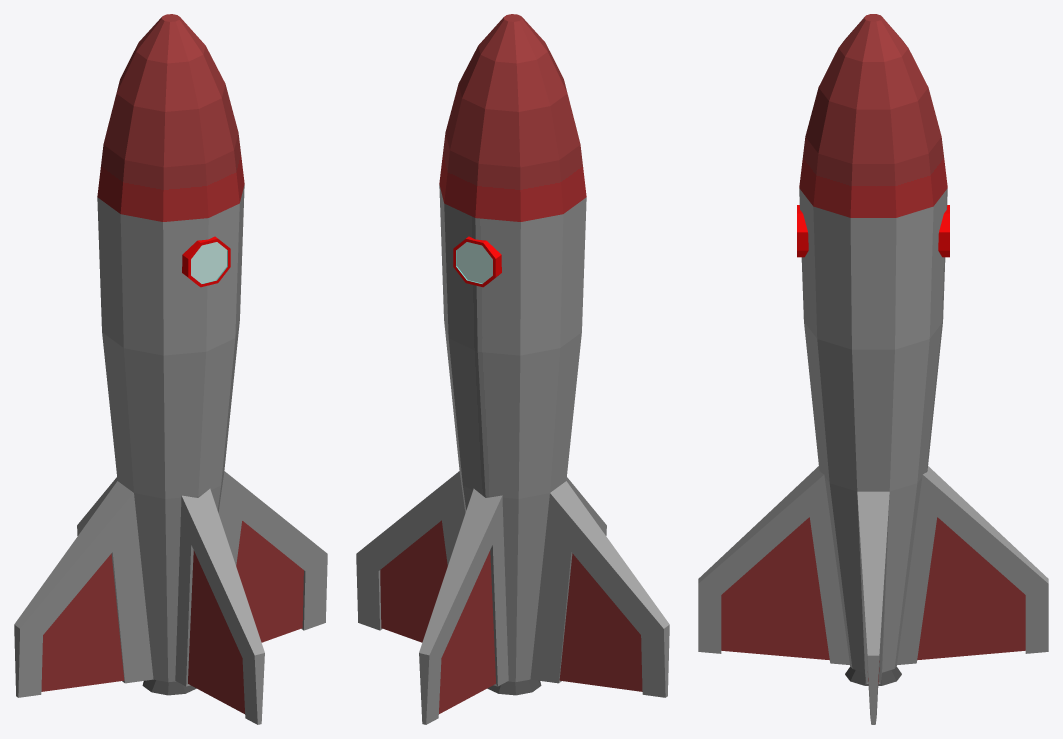
File: rocket.glb
The picture shows the model from 3 angles, left to right: view 1: azimuth 30°, elevation 25°; view 2: azimuth 150°, elevation 25°; view 3: azimuth 270°, elevation 25°; orthographic projection.
Visible parts, largest first — view 1: Rocket; view 2: Rocket; view 3: Rocket.
Boxes of the visible parts, x1,y1,x2,y2 form: Rocket: [14, 14, 327, 724]; Rocket: [356, 14, 669, 724]; Rocket: [698, 14, 1048, 724].
Bounding box in the file's own units: 6.59 × 13.62 × 6.59.
Materials: 1 (1 with a texture image).
